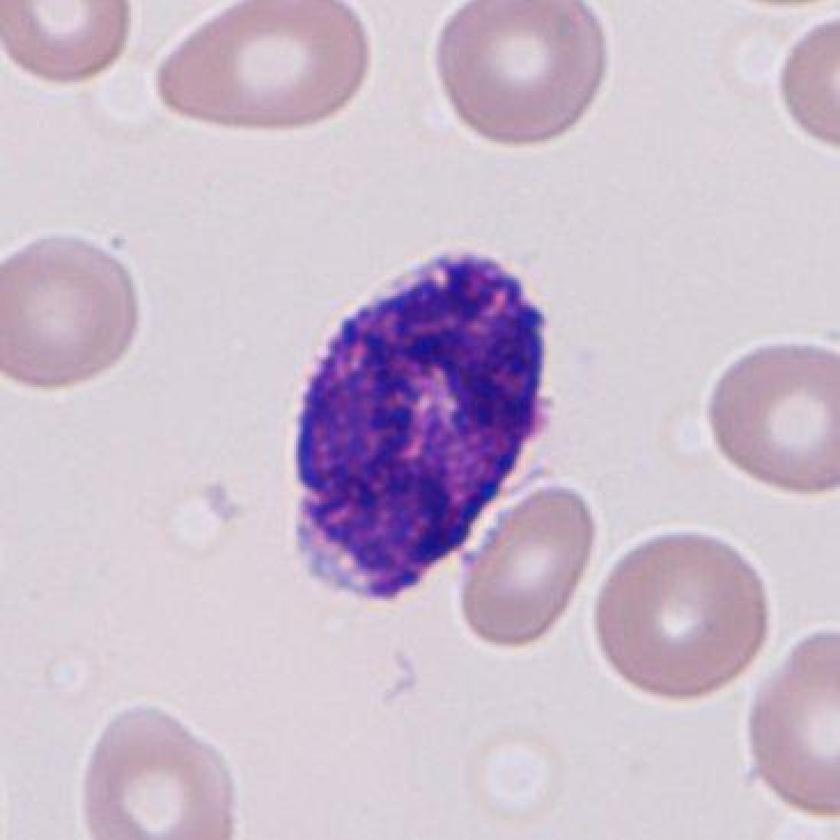basophil: (286, 236, 552, 605)
